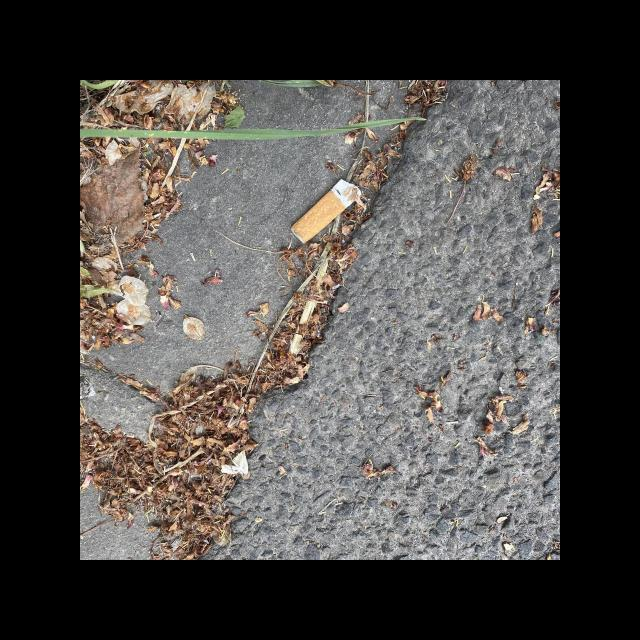cigarette: (290, 178, 361, 244)
